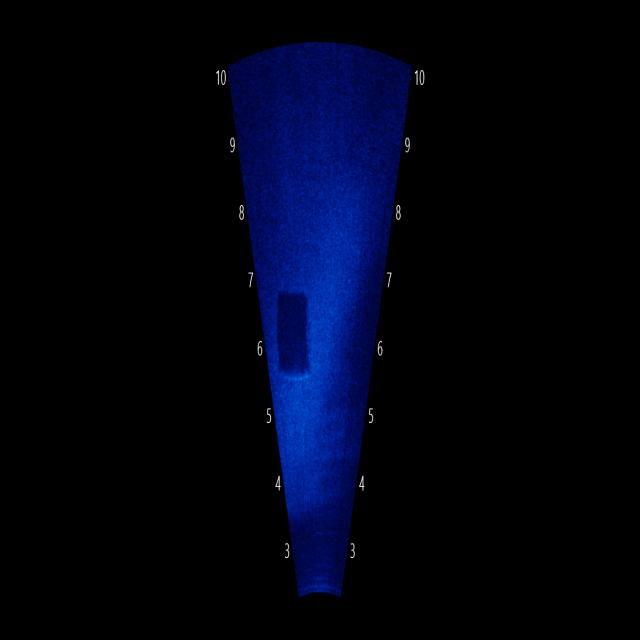square: (264, 269, 320, 392)
